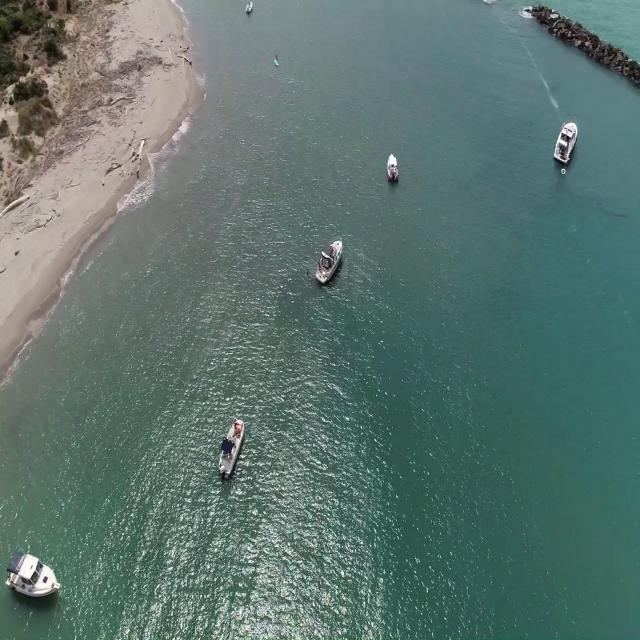boat: (5, 553, 65, 596), (218, 420, 246, 481), (316, 239, 343, 289), (554, 121, 579, 163), (384, 152, 400, 186), (244, 2, 254, 19)
life_buoy: (560, 168, 568, 178)
person: (274, 53, 279, 65)
surfboard: (272, 62, 281, 72)
